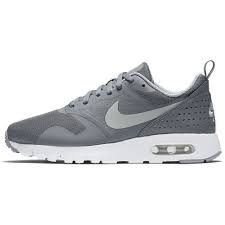nike: (101, 99, 168, 129)
